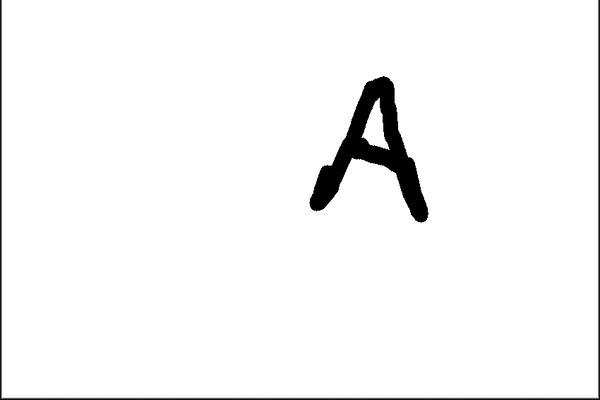A: (299, 66, 436, 236)
